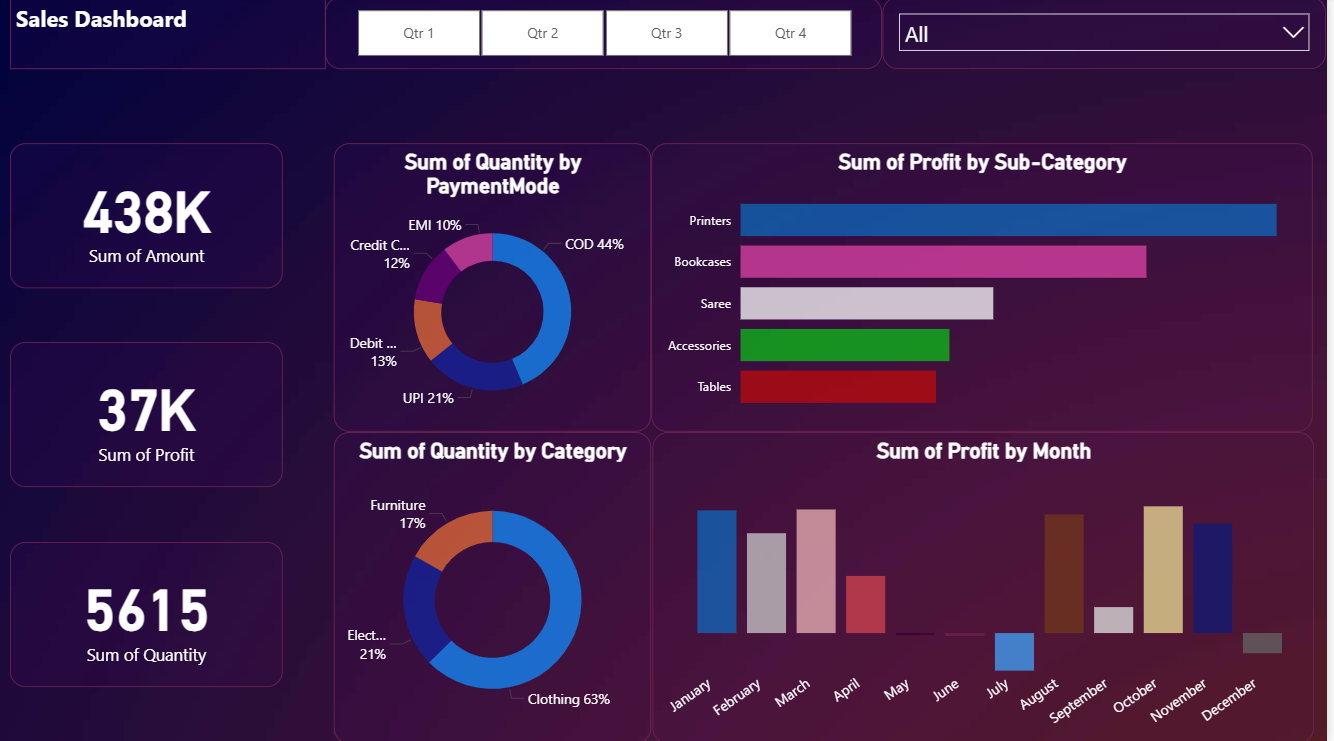

This screenshot's page, from the dashboard's own definition file:
{"tool":"powerbi","page":{"name":"Page 1","canvas":[1280,720],"ordinal":0},"visuals":[{"type":"textbox","box":[9.6,0,304.6,70],"z":0},{"type":"barChart","title":"Sum of Profit by Sub-Category","fields":{"Category":["Details.Sub-Category"],"Y":["Sum(Details.Profit)"]},"box":[628.5,141.3,638.1,278.6],"z":2},{"type":"donutChart","fields":{"Category":["Details.Category"],"Y":["Sum(Details.Quantity)"]},"box":[322.5,419.9,306,300.5],"z":3},{"type":"donutChart","fields":{"Category":["Details.PaymentMode"],"Y":["Sum(Details.Quantity)"]},"box":[322.5,141.3,306,278.6],"z":4},{"type":"card","fields":{"Values":["Sum(Details.Amount)"]},"box":[9.6,141.3,263.5,140],"z":5},{"type":"card","fields":{"Values":["Sum(Details.Profit)"]},"box":[9.6,290.9,263.5,140],"z":6},{"type":"card","fields":{"Values":["Sum(Details.Quantity)"]},"box":[9.6,430.9,263.5,140],"z":7},{"type":"card","fields":{"Values":["Sum(Details.Average Order Value)"]},"box":[9.6,580.4,263.5,140],"z":8},{"type":"columnChart","fields":{"Category":["Orders.Order Date.Variation.Date Hierarchy.Month"],"Y":["Sum(Details.Profit)"]},"box":[629.8,419.9,638.1,300.5],"z":9},{"type":"slicer","fields":{"Values":["Orders.Order Date.Variation.Date Hierarchy.Quarter"]},"box":[314.2,0,537.9,70],"z":10},{"type":"slicer","fields":{"Values":["Orders.State"]},"box":[852.1,0,428.1,70],"z":11}]}

Visuals, with their boxes in screenshot pixels (x1, y1, x2, y2), scaled from the page's 1280x720 canvas onto the 1334x741 screenshot:
textbox: 10/0/327/72
"Sum of Profit by Sub-Category" barChart: 655/145/1320/432
donutChart - Details.Category x Sum(Details.Quantity): 336/432/655/740
donutChart - Details.PaymentMode x Sum(Details.Quantity): 336/145/655/432
card - Sum(Details.Amount): 10/145/285/290
card - Sum(Details.Profit): 10/299/285/443
card - Sum(Details.Quantity): 10/443/285/588
card - Sum(Details.Average Order Value): 10/597/285/740
columnChart - Orders.Order Date.Variation.Date Hierarchy.Month x Sum(Details.Profit): 656/432/1321/740
slicer - Orders.Order Date.Variation.Date Hierarchy.Quarter: 327/0/888/72
slicer - Orders.State: 888/0/1333/72
